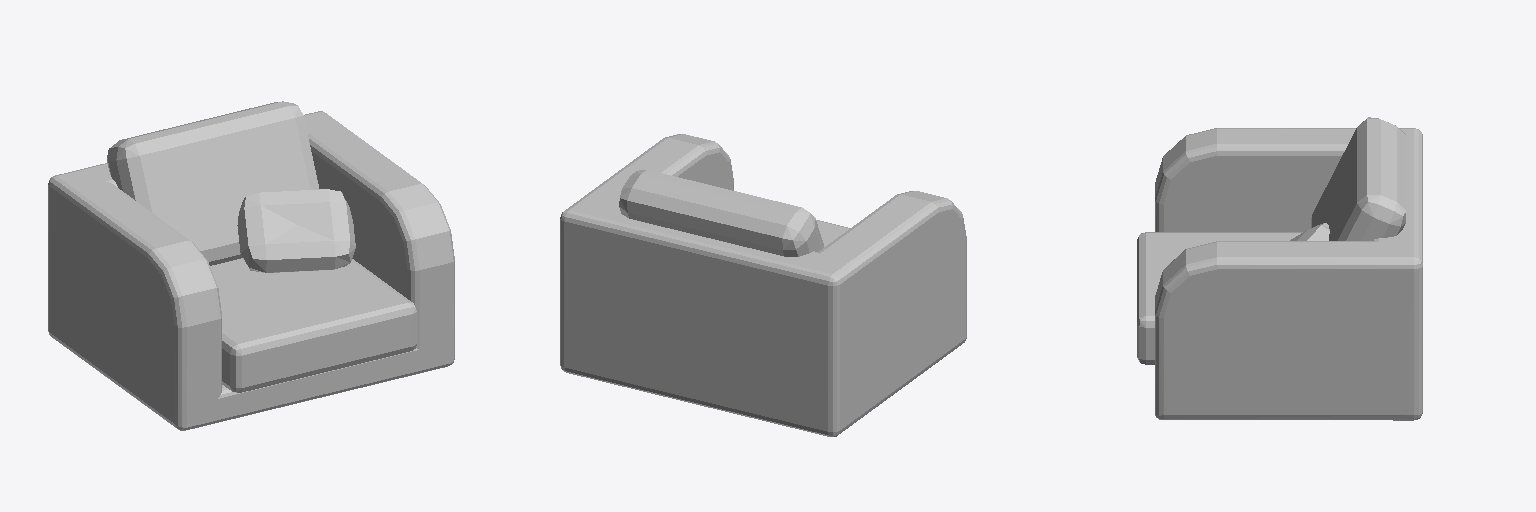
Rendered from armchair_pillows.obj.
3 renders of one model, left to right at view 1: azimuth 30°, elevation 25°; view 2: azimuth 150°, elevation 25°; view 3: azimuth 270°, elevation 25°, orthographic.
Visible parts, largest first — view 1: armchair_pillows_Plane.003; view 2: armchair_pillows_Plane.003; view 3: armchair_pillows_Plane.003.
Boxes of the visible parts, <box> form: armchair_pillows_Plane.003: <box>48,101,454,430</box>; armchair_pillows_Plane.003: <box>560,134,966,436</box>; armchair_pillows_Plane.003: <box>1137,117,1422,420</box>.
Size of the model in its own units: 1.8 by 1.22 by 1.6.